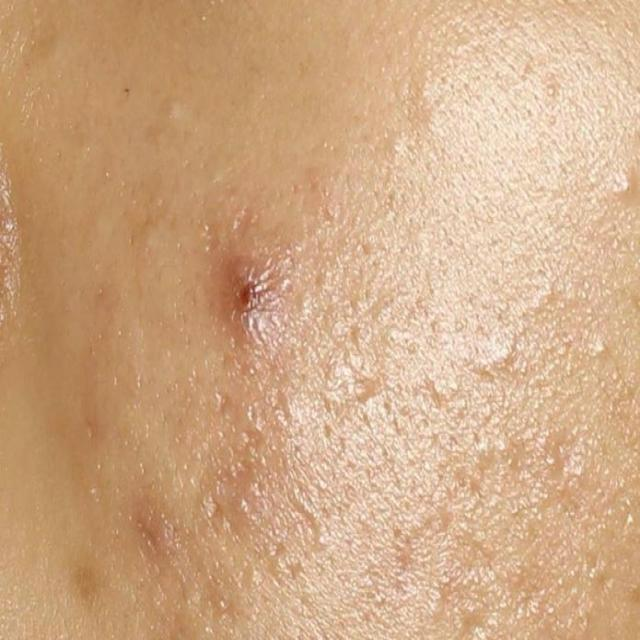Pimples: (225, 249, 275, 330)
